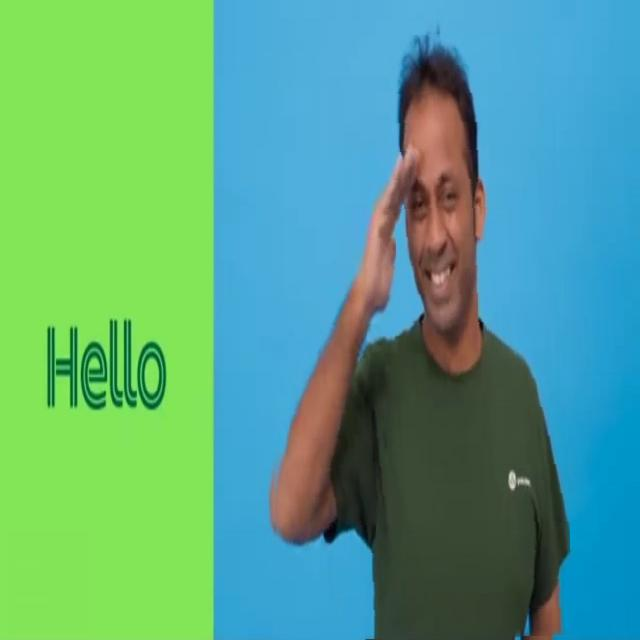Hello: (264, 32, 568, 640)
